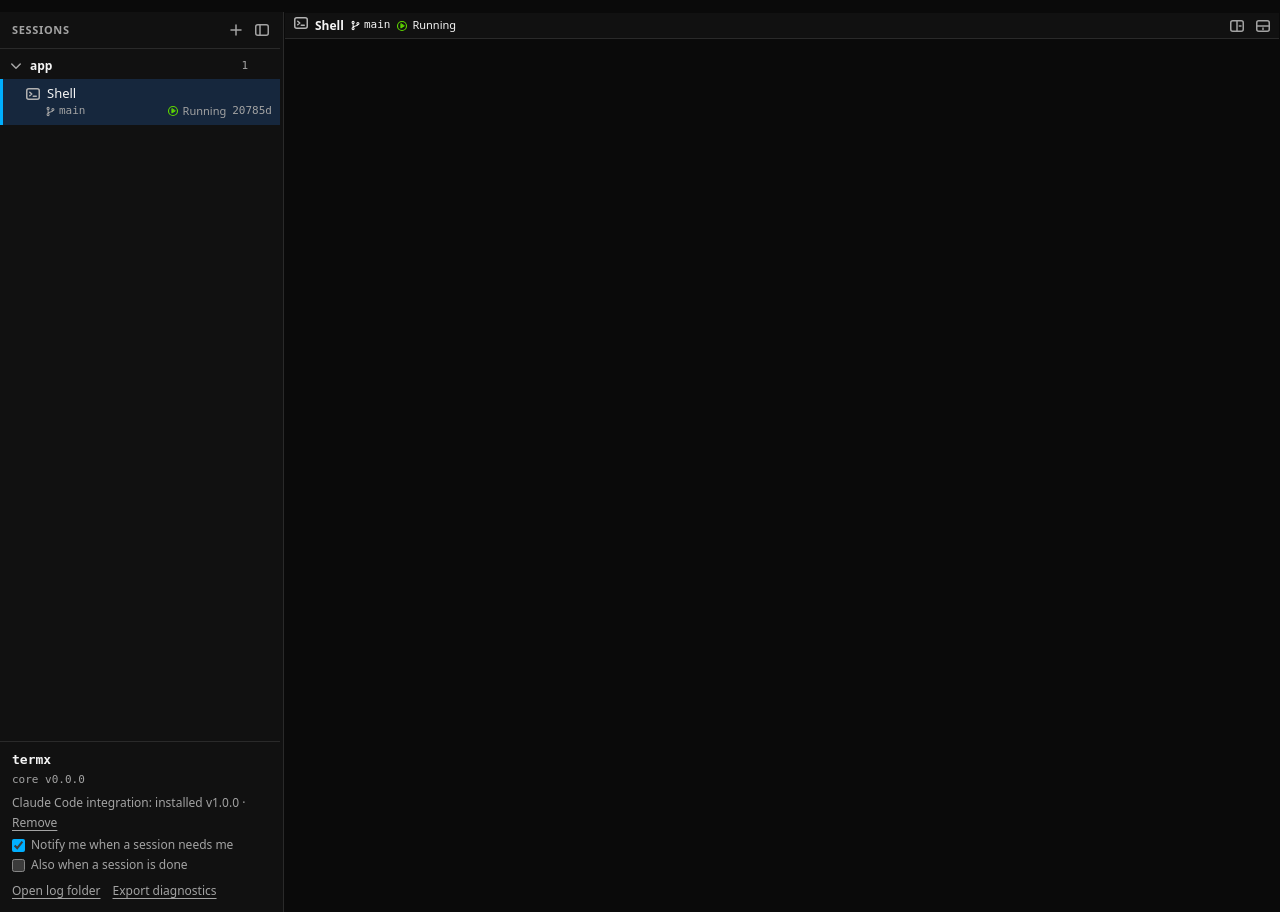
Scenario: renaming › changes nothing on Escape
The width and height of the screenshot is (1280, 912).
Double-click the list item with test id "session-row" at point(140, 102), box [0,79,280,124]
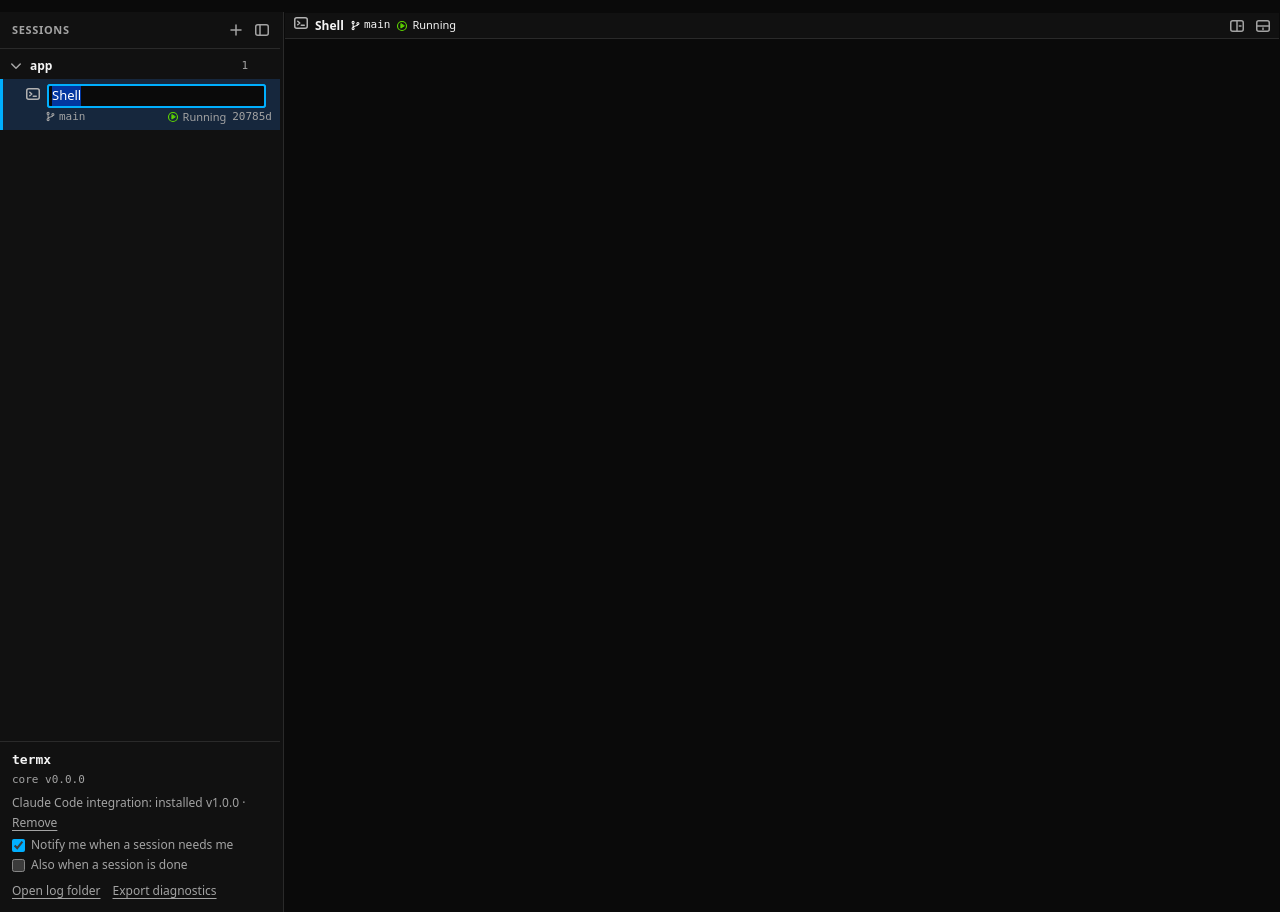
Type "Other" into the field with test id "rename-input" at point(156, 96), box [47,84,266,108]
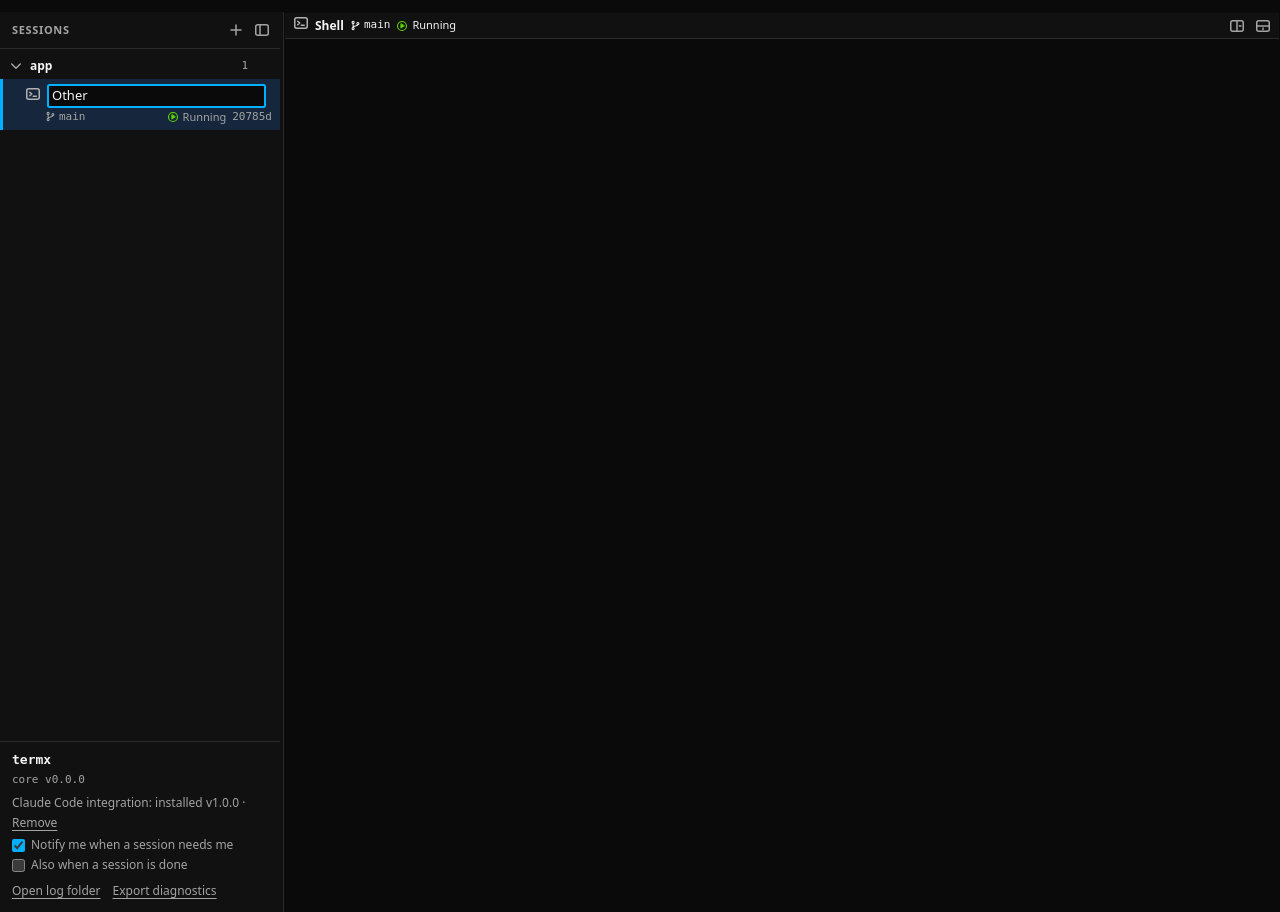
Press Escape in the field with test id "rename-input", box [47,84,266,108]
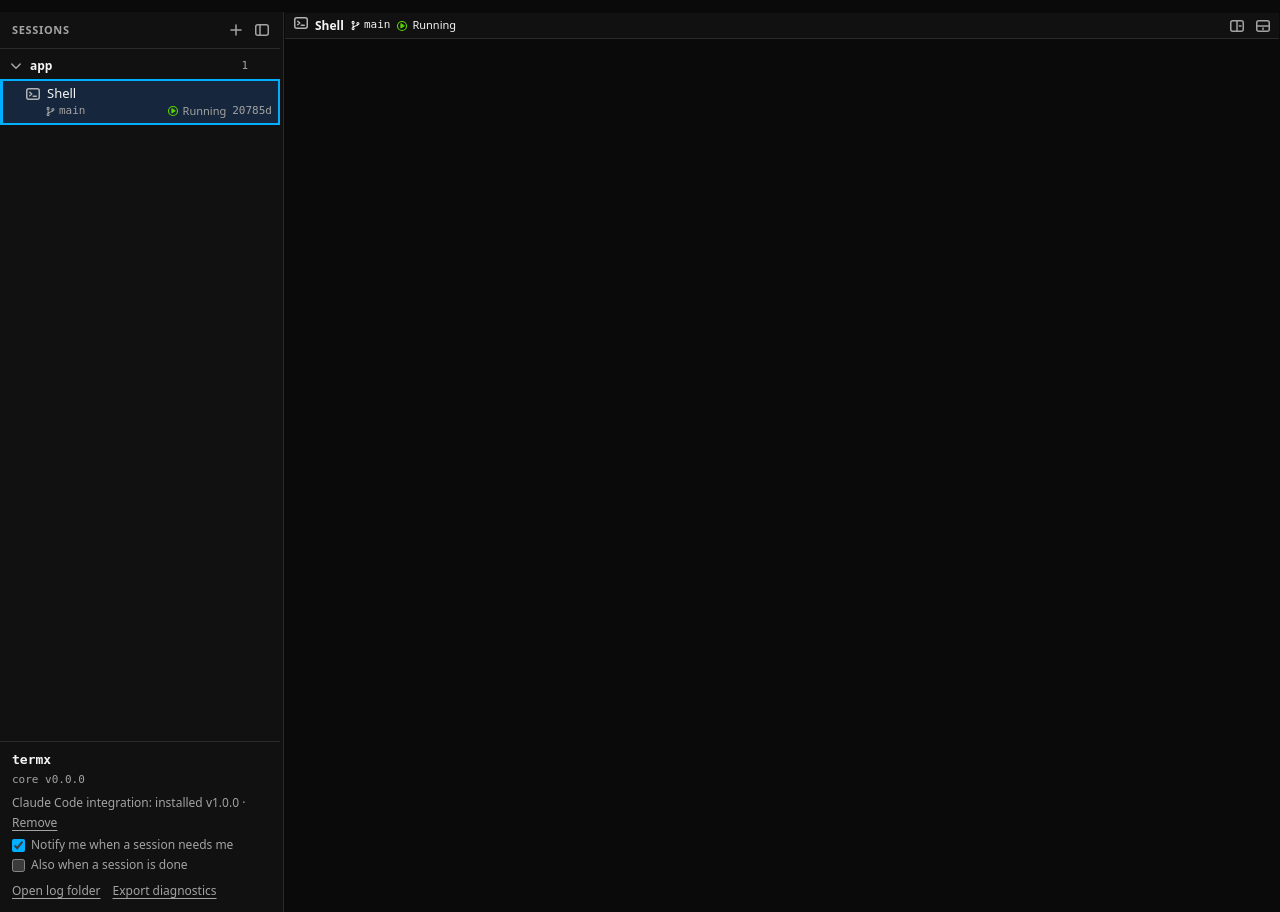
expect the field with test id "rename-input" is gone: met
